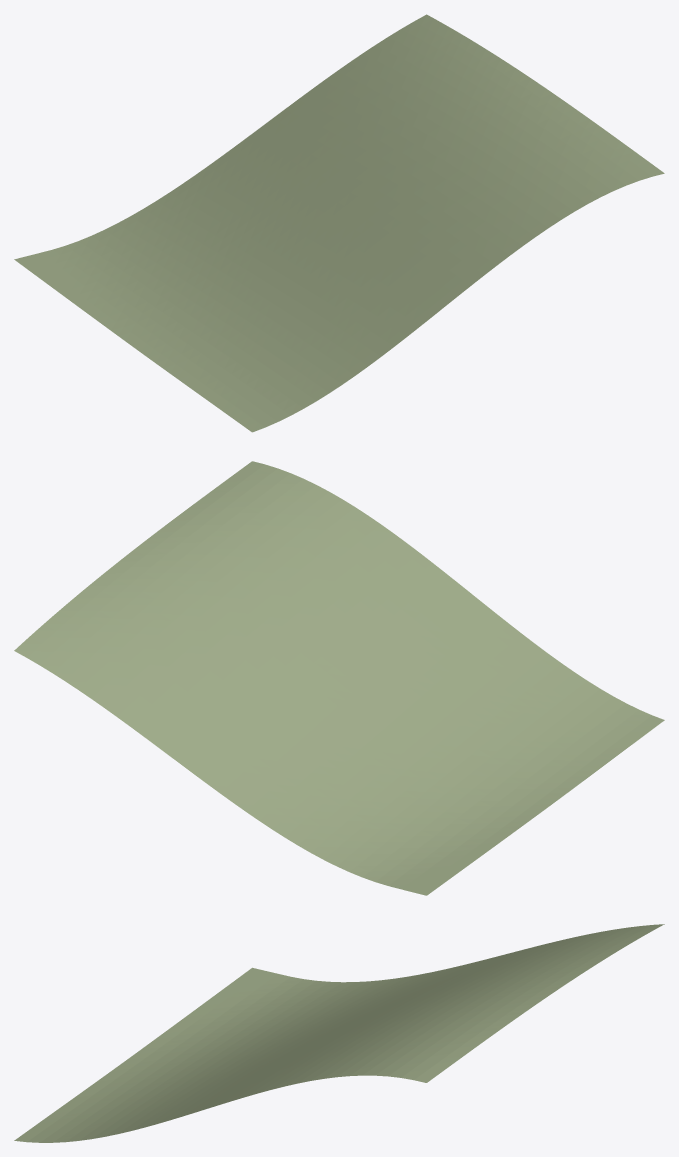
The model's file is desert-18-17.glb.
3 views of the same model, one above another, from view 1: azimuth 30°, elevation 25°; view 2: azimuth 150°, elevation 25°; view 3: azimuth 330°, elevation 25° (orthographic).
Parts seen in each view (by area): view 1: desert-18-17; view 2: desert-18-17; view 3: desert-18-17.
Boxes of the visible parts, x1,y1,x2,y2 form: desert-18-17: (14, 14, 664, 432); desert-18-17: (14, 461, 664, 895); desert-18-17: (14, 924, 664, 1142).
Size of the model in its own units: 512 by 190 by 512.
